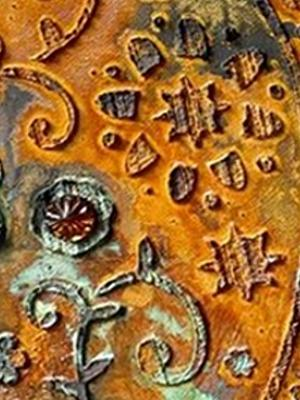rust: (146, 80, 300, 252), (2, 2, 103, 165), (87, 261, 229, 376)
